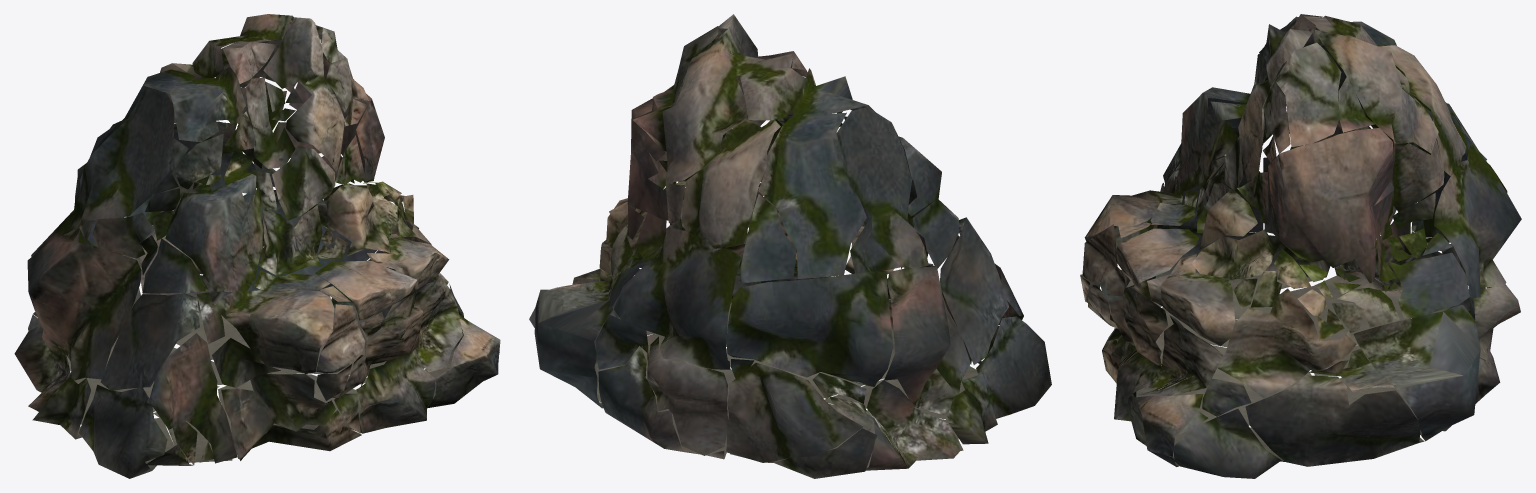
File: fels-haufen-rot.glb
The picture shows the model from 3 angles, left to right: view 1: azimuth 30°, elevation 25°; view 2: azimuth 150°, elevation 25°; view 3: azimuth 270°, elevation 25°; orthographic projection. The views are drawn at different scales.
Parts seen in each view (by area): view 1: mesh_node; view 2: mesh_node; view 3: mesh_node.
Part boxes in pixels (x1,y1,x2,y2): mesh_node: [14, 14, 500, 478]; mesh_node: [529, 14, 1051, 478]; mesh_node: [1080, 14, 1521, 478].
Bounding box in the file's own units: 1.92 × 1.58 × 1.68.
Materials: 1 (1 with a texture image).
